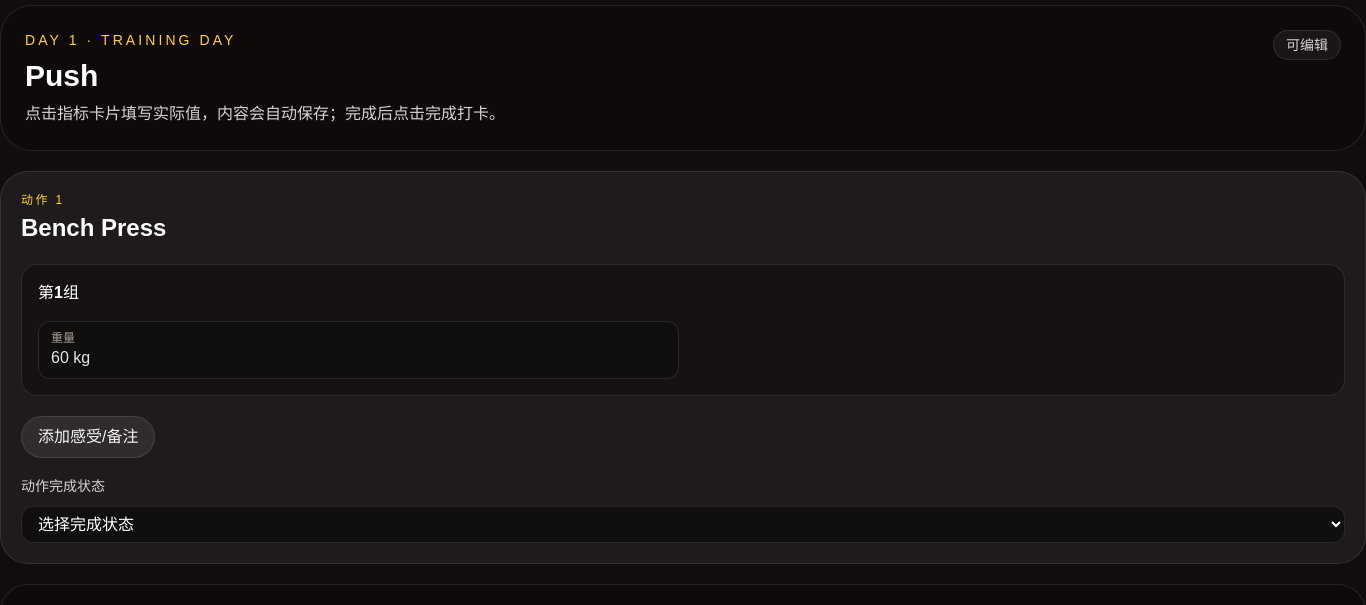
WorkoutPage › disables Day navigation until a pending completion request finishes
(page scrolled)
Expected: the heading "Bench Press" is shown, [21,212,166,244]
Select "已完成" in the dropdown at (683, 524), box [21,506,1345,543]
(page scrolled)
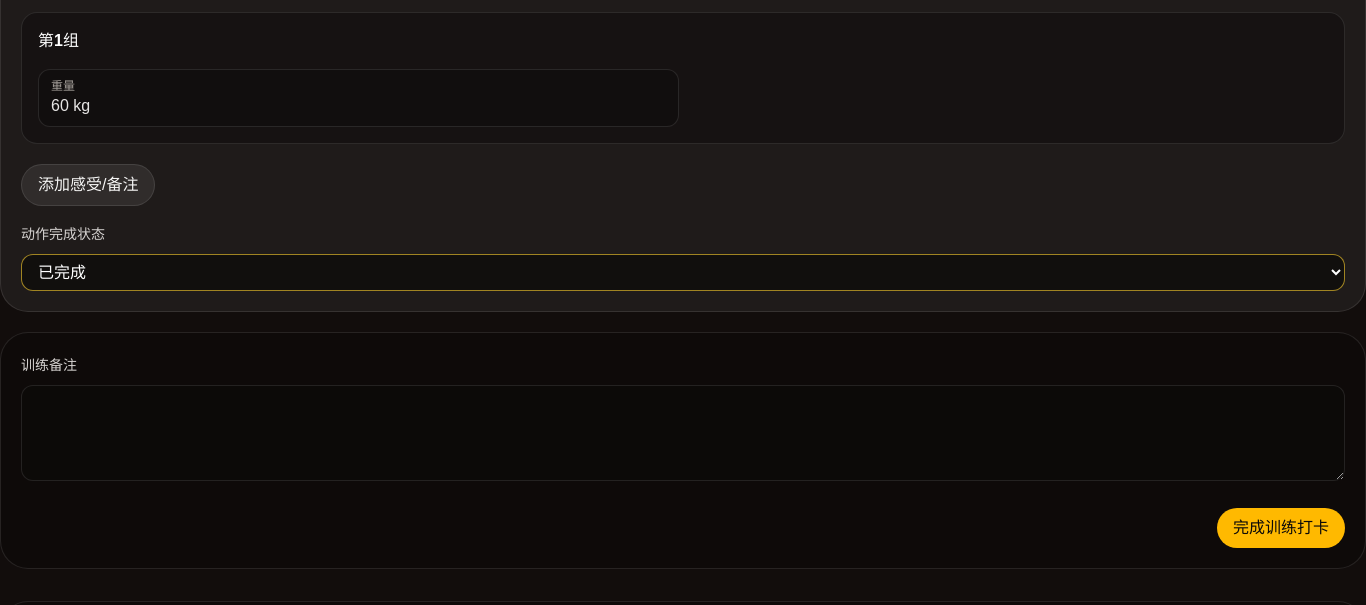
Click the button "完成训练打卡" at (1281, 528), box [1217,508,1345,548]
(page scrolled)
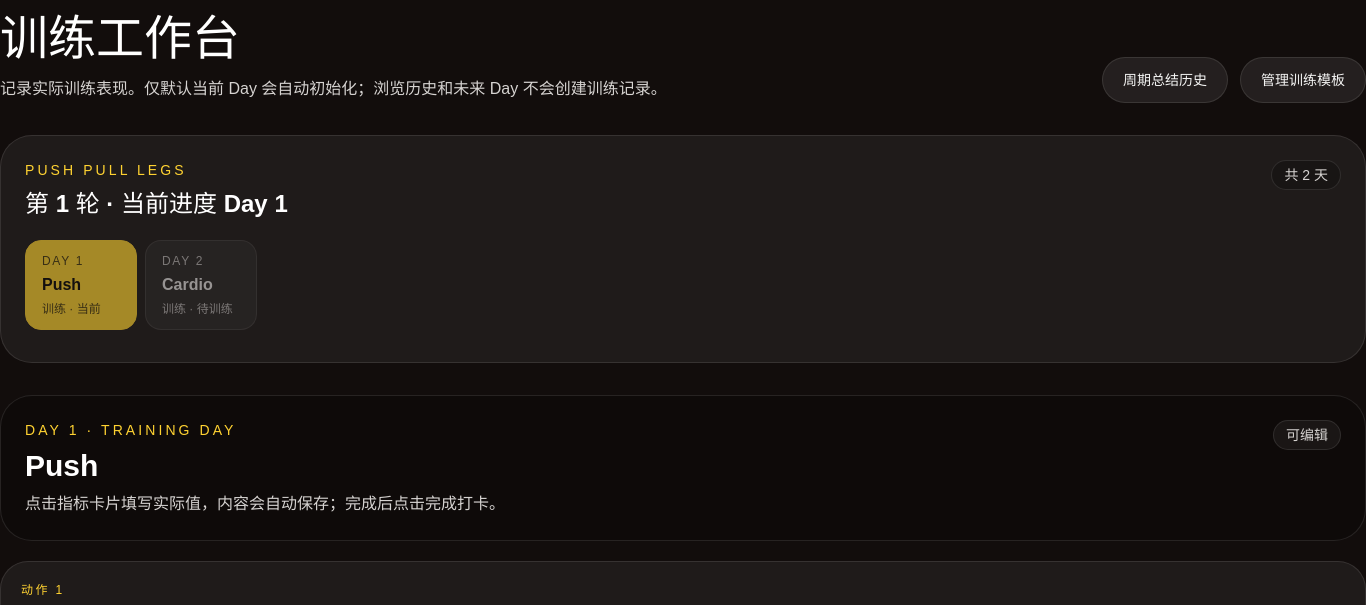
Expected: the button "Day 2 Cardio 训练 · 待训练" is disabled
Click the button "Day 2 Cardio 训练 · 待训练" at (201, 285), box [145,240,257,330]
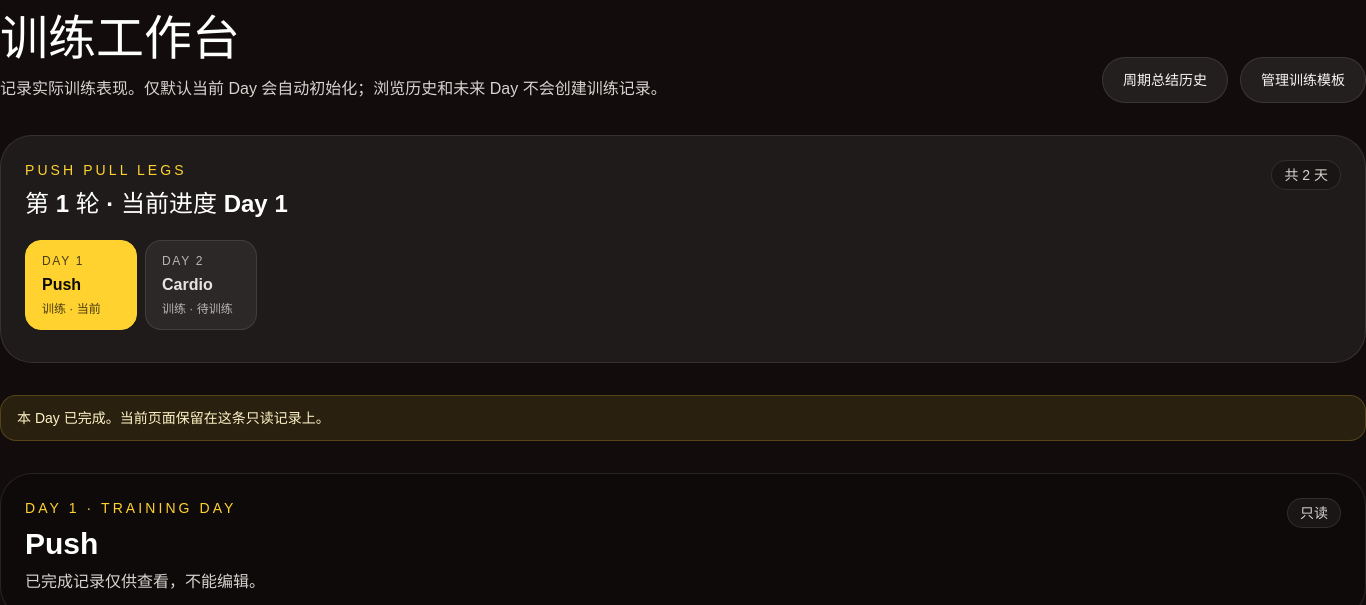
Expected: the button "完成训练打卡" is not shown
Expected: the button "Day 2 Cardio 训练 · 待训练" is enabled, [145,240,257,330]
